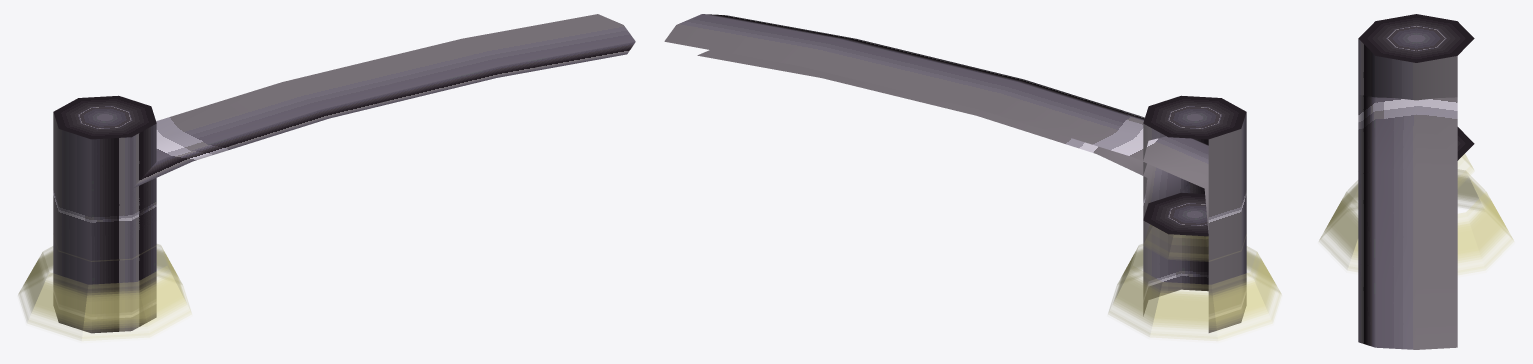
File: 5243item2924.gltf
3 views of the same model, side by side, from view 1: azimuth 30°, elevation 25°; view 2: azimuth 150°, elevation 25°; view 3: azimuth 270°, elevation 25° (orthographic). The views are drawn at different scales.
Parts seen in each view (by area): view 1: 5243item2924; view 2: 5243item2924; view 3: 5243item2924.
Boxes of the visible parts, x1=… form: 5243item2924: x1=18, y1=14, x2=635, y2=340; 5243item2924: x1=664, y1=14, x2=1281, y2=340; 5243item2924: x1=1319, y1=14, x2=1513, y2=349.
Size of the model in its own units: 6.48 by 2 by 1.76.
Materials: 2 (2 with a texture image).
